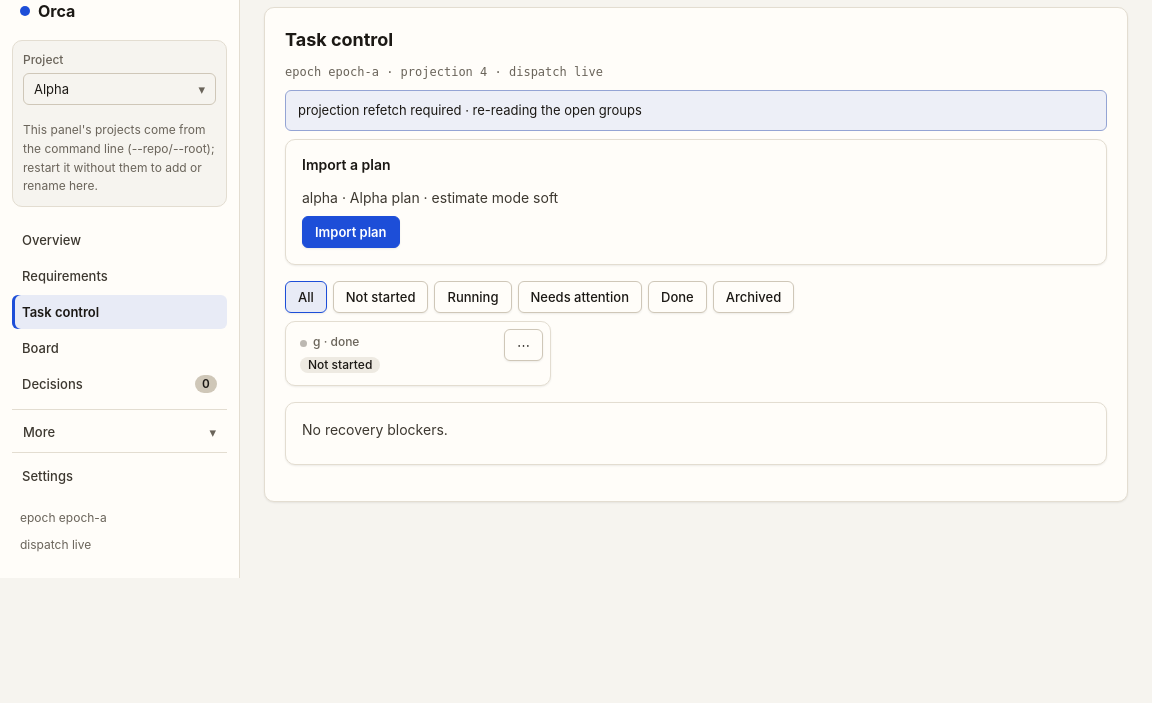
Test: real App task rejects foreign generation and changed execution identity
This screenshot has width=1152, height=703.
Click the button "g · done Not started" at {"x": 340, "y": 365}, box [285,321,551,386]
Wait 1 ms
(page scrolled)
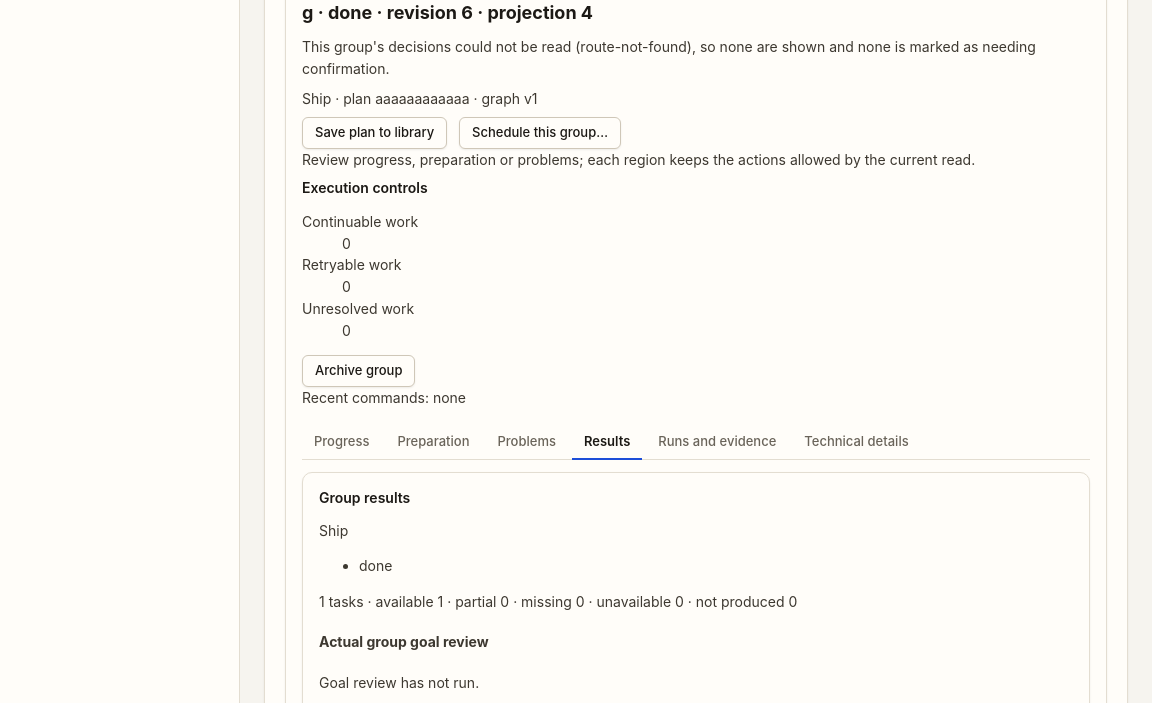
Click the tab "Progress" at {"x": 342, "y": 443}, box [302,425,382,460]
(page scrolled)
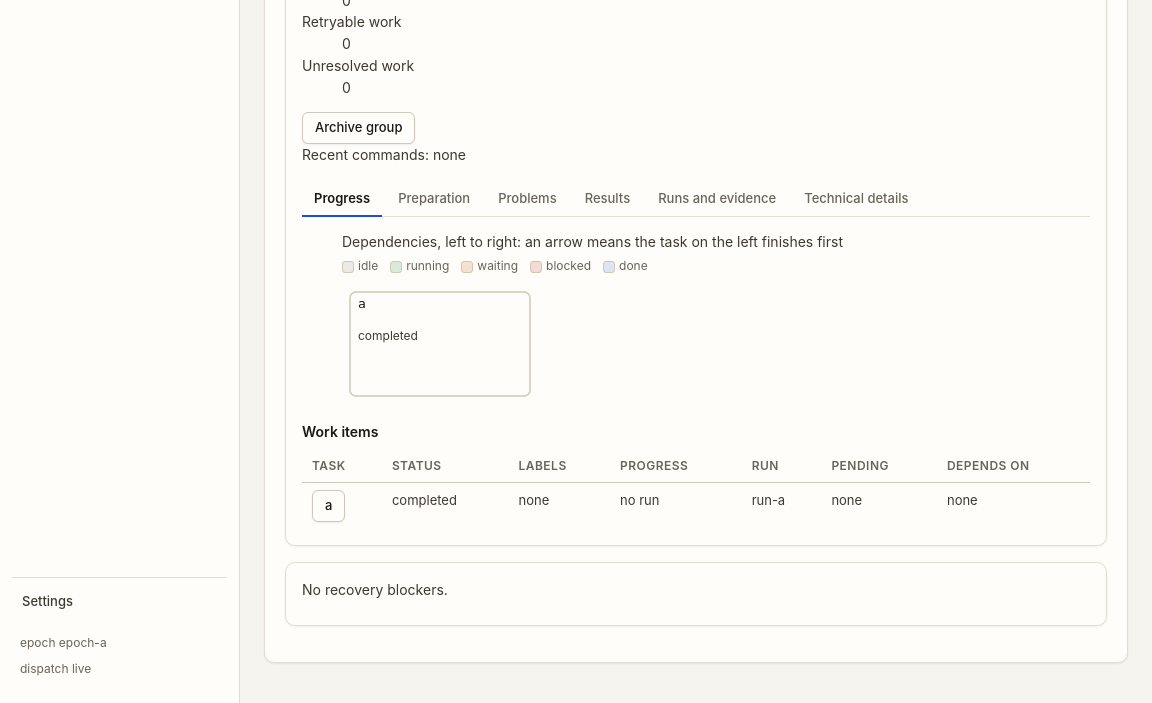
Click the button "a" at {"x": 329, "y": 506}, box [312,490,345,522]
Wait 1 ms
(page scrolled)
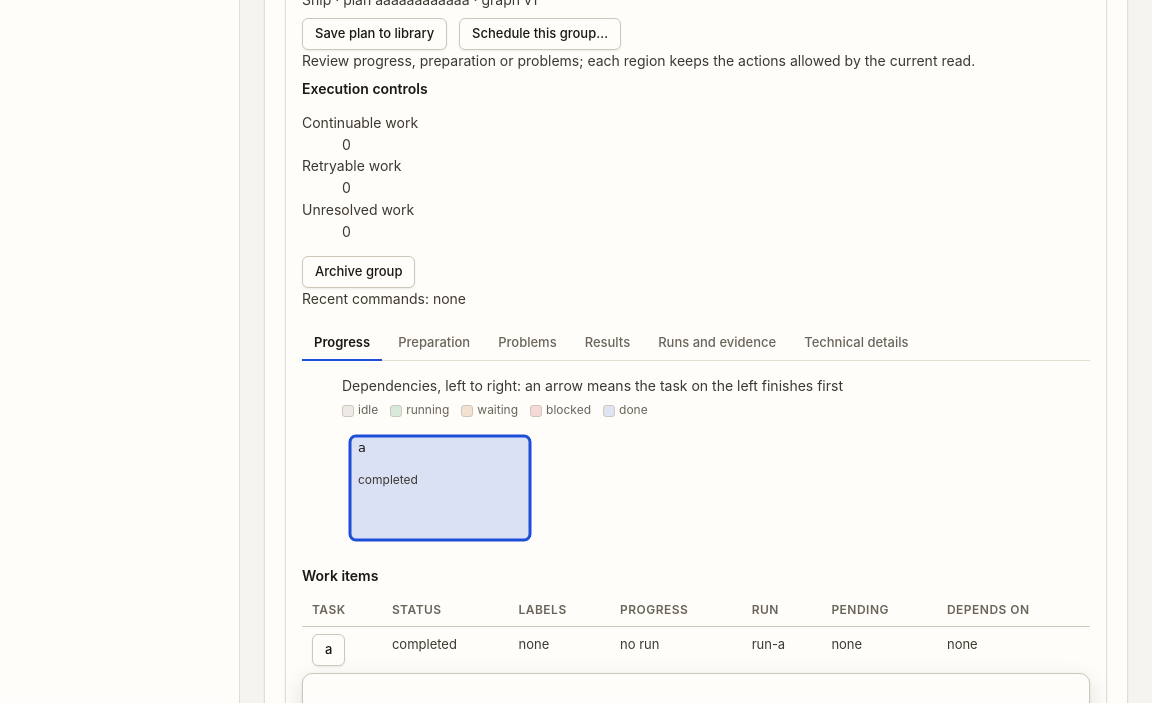
Click the tab "Results" at {"x": 607, "y": 344}, box [573,326,642,361]
Wait 4001 ms
(page scrolled)
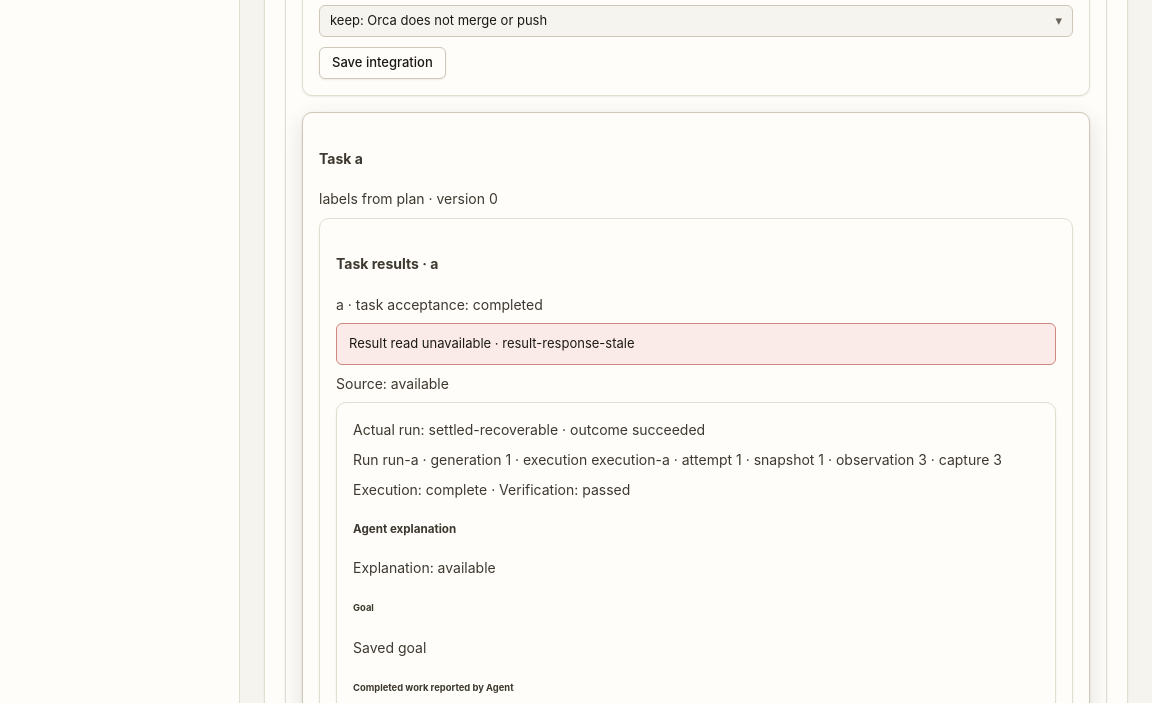
expect the message shows "result-response-stale": met, box [349,335,634,351]
